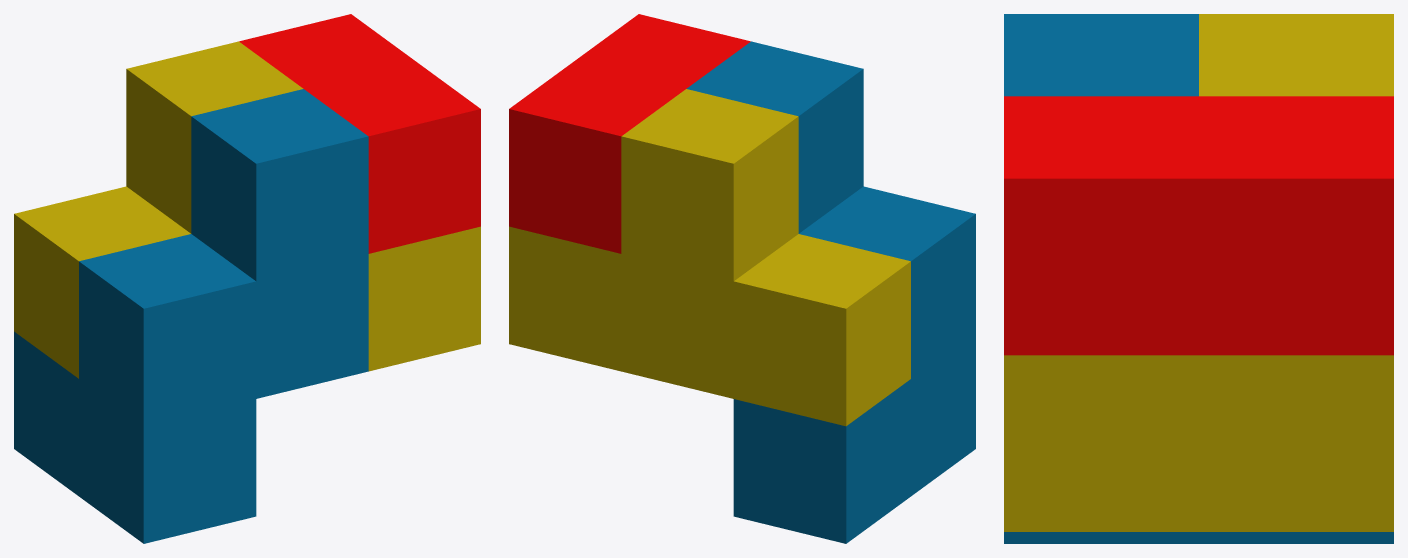
The picture shows the model from 3 angles, left to right: view 1: azimuth 30°, elevation 25°; view 2: azimuth 150°, elevation 25°; view 3: azimuth 270°, elevation 25°; orthographic projection. The views are drawn at different scales.
Parts seen in each view (by area): view 1: mergedBlocks(Clone); view 2: mergedBlocks(Clone); view 3: mergedBlocks(Clone).
Part boxes in pixels (x1,y1,x2,y2): mergedBlocks(Clone): (14,14,480,543); mergedBlocks(Clone): (509,14,975,543); mergedBlocks(Clone): (1004,14,1393,543).
Bounding box in the file's own units: 3 × 3 × 2.
Materials: 3 (3 with a texture image).
